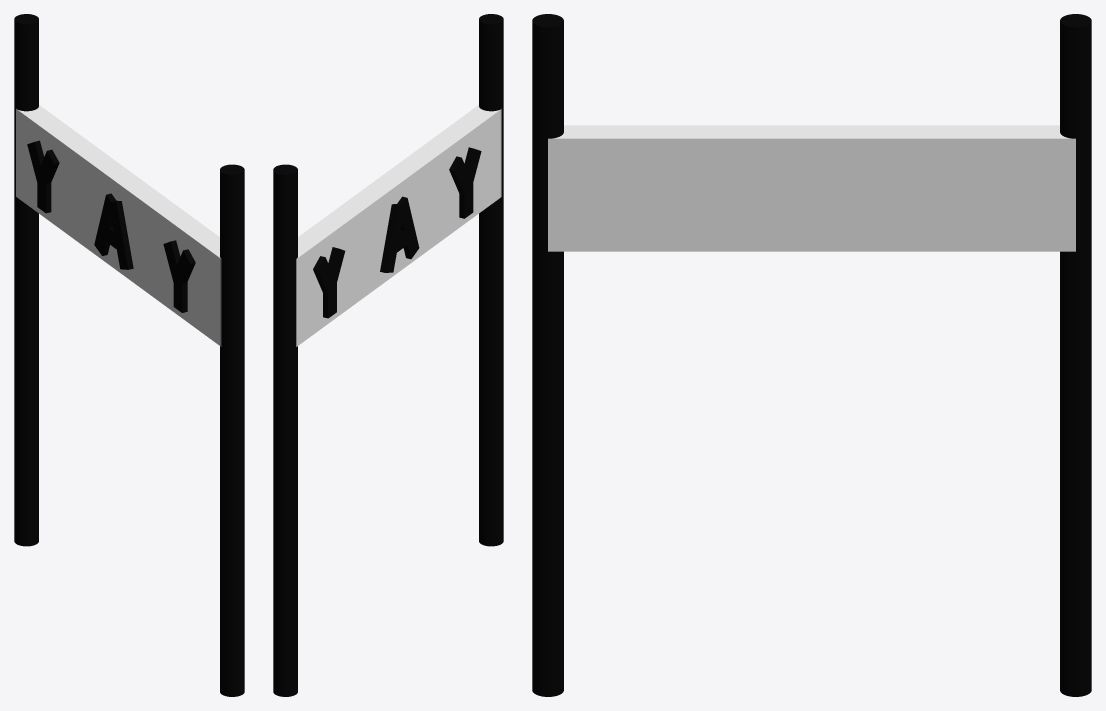
Rendered from finishline.obj.
The picture shows the model from 3 angles, left to right: view 1: azimuth 30°, elevation 25°; view 2: azimuth 150°, elevation 25°; view 3: azimuth 270°, elevation 25°; orthographic projection. The views are drawn at different scales.
Visible parts, largest first — view 1: Cube_Cube.002, Cylinder.001, Cylinder, Cube.005_Cube.007, Cube.006_Cube.008, Cube.001_Cube.009; view 2: Cube_Cube.002, Cylinder, Cylinder.001, Cube.005_Cube.007, Cube.006_Cube.008, Cube.001_Cube.009; view 3: Cube_Cube.002, Cylinder, Cylinder.001.
Boxes of the visible parts, box(x1,y1,x2,y2) form: Cube_Cube.002: box(16, 105, 221, 346); Cylinder.001: box(220, 164, 244, 696); Cylinder: box(14, 14, 38, 546); Cube.005_Cube.007: box(94, 193, 133, 269); Cube.006_Cube.008: box(163, 240, 195, 312); Cube.001_Cube.009: box(27, 140, 59, 213); Cube_Cube.002: box(296, 105, 501, 346); Cylinder: box(273, 164, 297, 696); Cylinder.001: box(479, 14, 503, 546); Cube.005_Cube.007: box(380, 196, 419, 272); Cube.006_Cube.008: box(449, 147, 481, 218); Cube.001_Cube.009: box(313, 247, 345, 318); Cube_Cube.002: box(548, 125, 1075, 251); Cylinder: box(1060, 14, 1091, 696); Cylinder.001: box(532, 14, 563, 696).
Bounding box in the file's own units: 0.75 × 14 × 10.6.
Materials: 12 (12 with a texture image).
